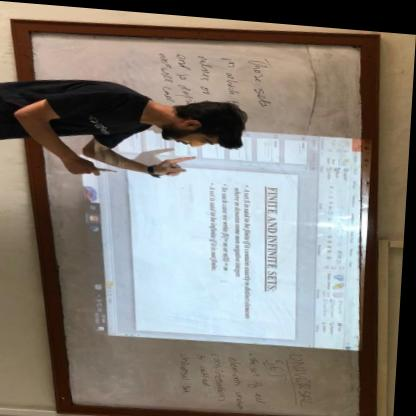Handwritten text: (176, 343, 232, 400), (291, 346, 325, 407), (244, 50, 279, 107), (217, 49, 247, 111), (249, 346, 276, 402), (154, 43, 177, 102), (194, 43, 218, 99), (229, 350, 251, 407), (175, 46, 195, 105), (270, 350, 293, 374)
Lecturer: (7, 71, 257, 173)
Whiteboard: (24, 24, 370, 416)
